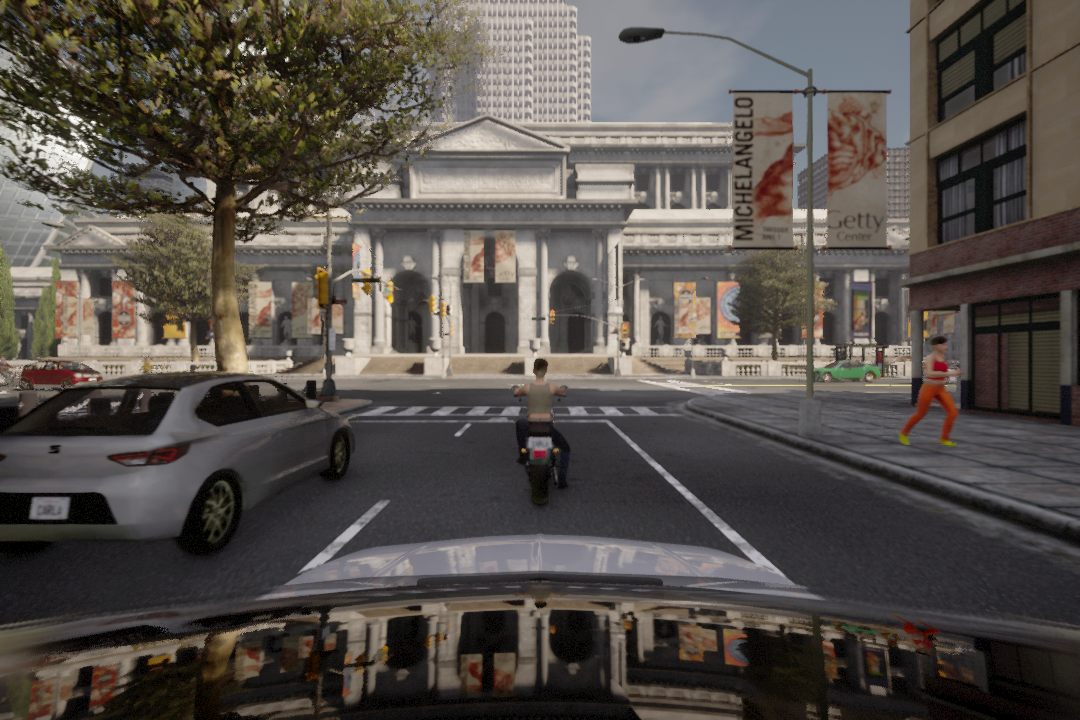walkside: (354, 402, 691, 427)
